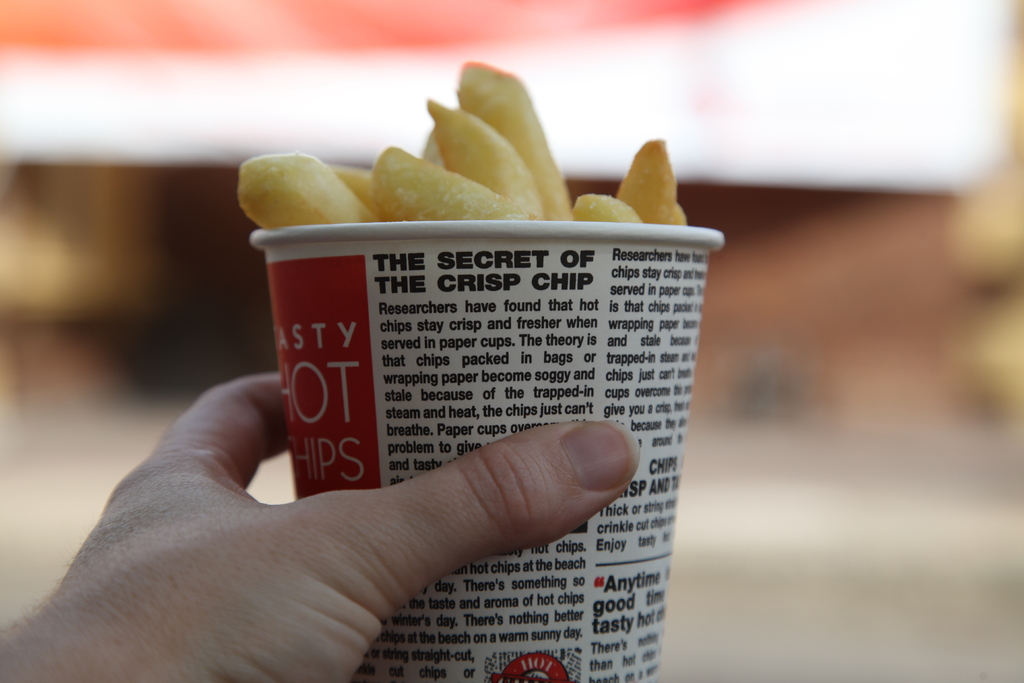French fries: (184, 73, 645, 237)
